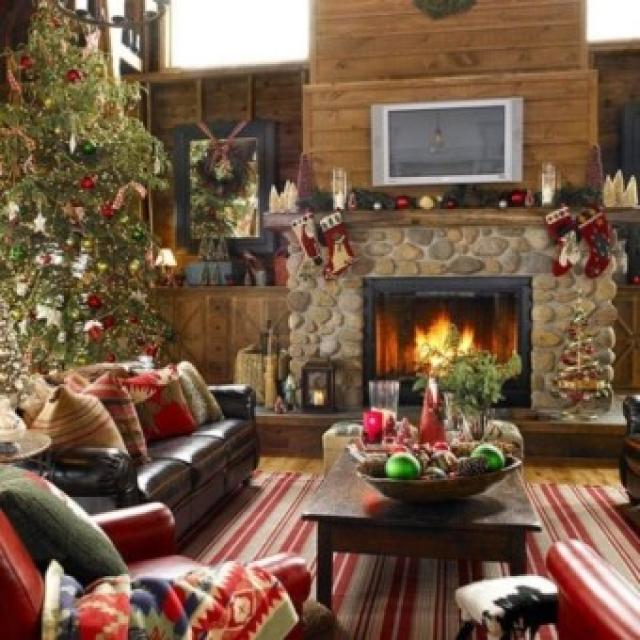Chair: (6, 455, 294, 633)
Sofa: (20, 354, 270, 558)
Table: (302, 421, 548, 580)
tv: (377, 103, 526, 182)
